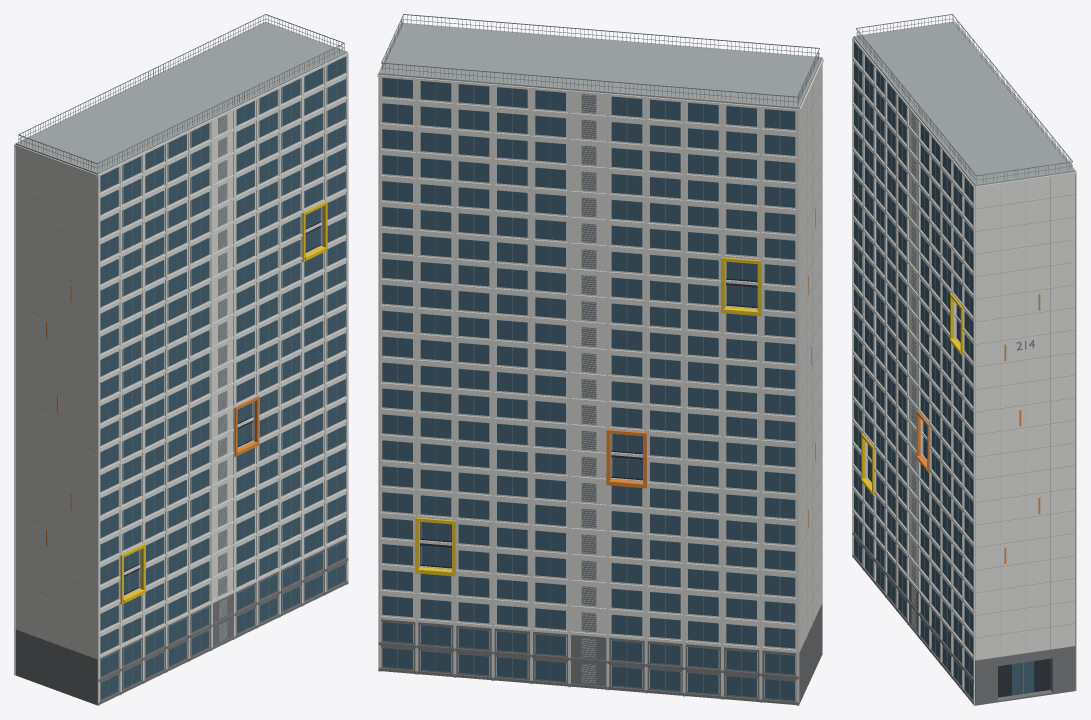
Rendered from bespoke-songpa-helio-city-214.glb.
3 renders of one model, left to right at view 1: azimuth 30°, elevation 25°; view 2: azimuth 150°, elevation 25°; view 3: azimuth 270°, elevation 25°, orthographic. The views are drawn at different scales.
Parts seen in each view (by area): view 1: Helio214_editable_Helio214_white_slab_frames, Helio214_editable_Helio214_dark_blue_grey_glazing, Helio214_editable_Helio214_low_roof_deck, Helio214_editable_Helio214_grey_service_grille, Helio214_editable_Helio214_dark_grey_twofloor_base, Helio214_editable_Helio214_blankwall_grey_panels, Helio214_editable_Helio214_yellow_projecting_rectangular_fra, Helio214_editable_Helio214_orange_narrow_accent; view 2: Helio214_editable_Helio214_dark_blue_grey_glazing, Helio214_editable_Helio214_white_slab_frames, Helio214_editable_Helio214_low_roof_deck, Helio214_editable_Helio214_grey_service_grille, Helio214_editable_Helio214_dark_grey_twofloor_base, Helio214_editable_Helio214_blankwall_grey_panels, Helio214_editable_Helio214_yellow_projecting_rectangular_fra, Helio214_editable_Helio214_orange_narrow_accent, Helio214_editable_Helio214_deep_shaded_frame_recess; view 3: Helio214_editable_Helio214_white_slab_frames, Helio214_editable_Helio214_dark_blue_grey_glazing, Helio214_editable_Helio214_low_roof_deck, Helio214_editable_Helio214_grey_service_grille, Helio214_editable_Helio214_dark_grey_twofloor_base, Helio214_editable_Helio214_blankwall_grey_panels, Helio214_editable_Helio214_deep_shaded_frame_recess, Helio214_editable_Helio214_yellow_projecting_rectangular_fra, Helio214_editable_Helio214_orange_narrow_accent.
Part boxes in pixels (x1,y1,x2,y2): Helio214_editable_Helio214_white_slab_frames: [14, 52, 348, 705]; Helio214_editable_Helio214_dark_blue_grey_glazing: [100, 56, 345, 699]; Helio214_editable_Helio214_low_roof_deck: [15, 21, 347, 174]; Helio214_editable_Helio214_grey_service_grille: [18, 14, 344, 695]; Helio214_editable_Helio214_dark_grey_twofloor_base: [15, 539, 348, 705]; Helio214_editable_Helio214_blankwall_grey_panels: [218, 115, 227, 641]; Helio214_editable_Helio214_yellow_projecting_rectangular_fra: [120, 201, 327, 604]; Helio214_editable_Helio214_orange_narrow_accent: [46, 285, 259, 546]; Helio214_editable_Helio214_dark_blue_grey_glazing: [382, 77, 795, 700]; Helio214_editable_Helio214_white_slab_frames: [377, 24, 823, 705]; Helio214_editable_Helio214_low_roof_deck: [378, 23, 822, 108]; Helio214_editable_Helio214_grey_service_grille: [381, 14, 822, 698]; Helio214_editable_Helio214_dark_grey_twofloor_base: [378, 603, 822, 705]; Helio214_editable_Helio214_blankwall_grey_panels: [581, 85, 812, 683]; Helio214_editable_Helio214_yellow_projecting_rectangular_fra: [415, 257, 761, 576]; Helio214_editable_Helio214_orange_narrow_accent: [606, 209, 815, 527]; Helio214_editable_Helio214_deep_shaded_frame_recess: [420, 262, 757, 568]; Helio214_editable_Helio214_white_slab_frames: [852, 23, 1076, 705]; Helio214_editable_Helio214_dark_blue_grey_glazing: [854, 42, 1034, 699]; Helio214_editable_Helio214_low_roof_deck: [853, 21, 1075, 186]; Helio214_editable_Helio214_grey_service_grille: [856, 14, 1074, 694]; Helio214_editable_Helio214_dark_grey_twofloor_base: [852, 514, 1075, 705]; Helio214_editable_Helio214_blankwall_grey_panels: [911, 113, 1050, 656]; Helio214_editable_Helio214_deep_shaded_frame_recess: [868, 314, 1050, 697]; Helio214_editable_Helio214_yellow_projecting_rectangular_fra: [861, 293, 964, 495]; Helio214_editable_Helio214_orange_narrow_accent: [916, 294, 1040, 563].
Bounding box in the file's own units: 43.66 × 65.4 × 25.17.
